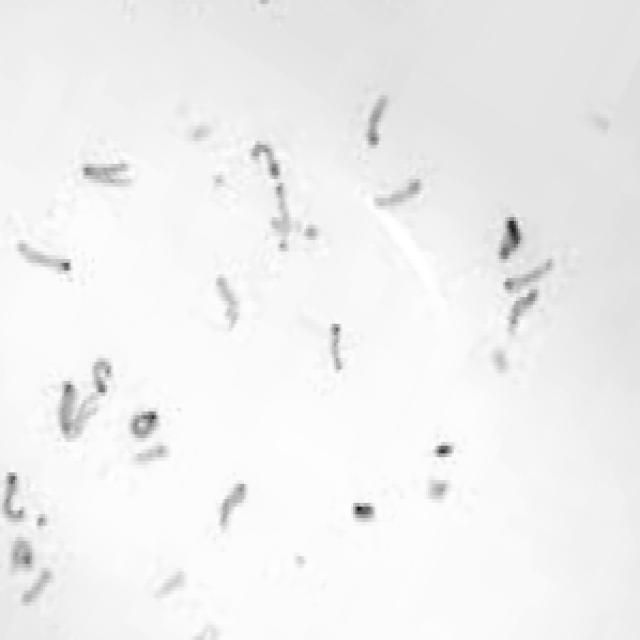larvas: (21, 240, 71, 272), (504, 257, 552, 290), (372, 175, 419, 208), (219, 483, 249, 530), (255, 139, 280, 180), (3, 474, 24, 519), (269, 218, 320, 236), (511, 288, 536, 324), (22, 572, 52, 601), (213, 274, 237, 309), (84, 159, 128, 178), (370, 92, 384, 146), (94, 356, 116, 390), (9, 539, 33, 570), (58, 416, 90, 439), (206, 310, 238, 332), (132, 407, 156, 436), (502, 220, 521, 256), (331, 322, 344, 372), (134, 446, 165, 464), (97, 175, 134, 190), (78, 389, 101, 412), (61, 377, 73, 419), (160, 572, 181, 596), (276, 185, 288, 214)
